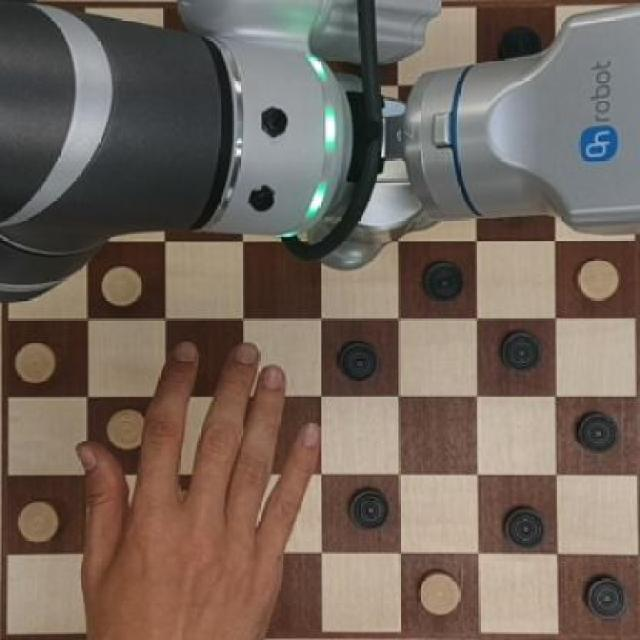black: (334, 476, 394, 539), (412, 251, 469, 312), (330, 335, 389, 390), (492, 320, 544, 380), (569, 405, 624, 459), (499, 496, 549, 555), (577, 572, 628, 623)
white: (564, 249, 627, 311), (10, 495, 71, 552), (97, 259, 151, 319), (418, 566, 472, 624), (11, 338, 68, 388), (100, 404, 146, 454)
